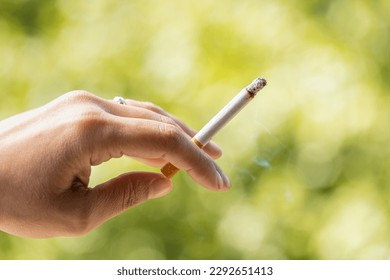cigarette: (157, 74, 272, 182)
